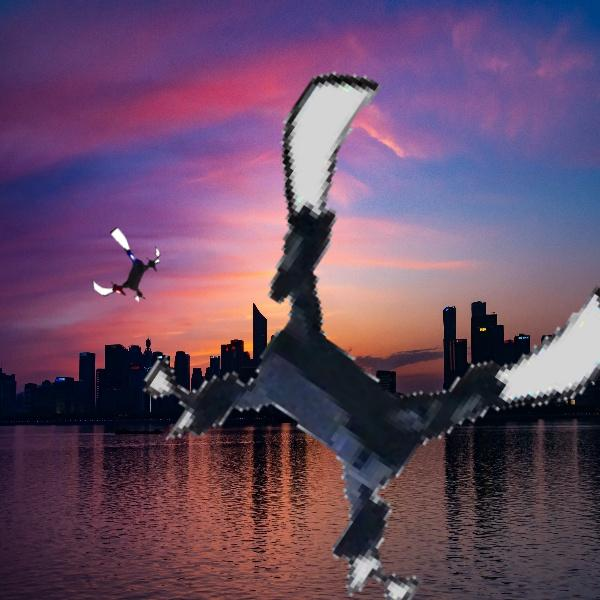drone: (135, 116, 598, 579), (88, 231, 168, 311)
